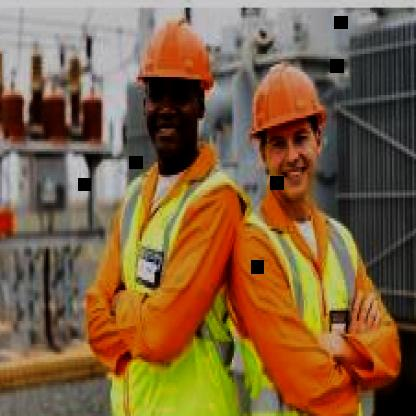helmet: (120, 3, 221, 172), (241, 49, 339, 213)
